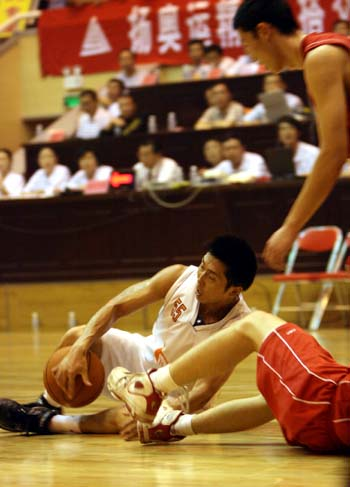10+: (2, 1, 350, 282)
down: (3, 229, 255, 446), (108, 310, 350, 461)
